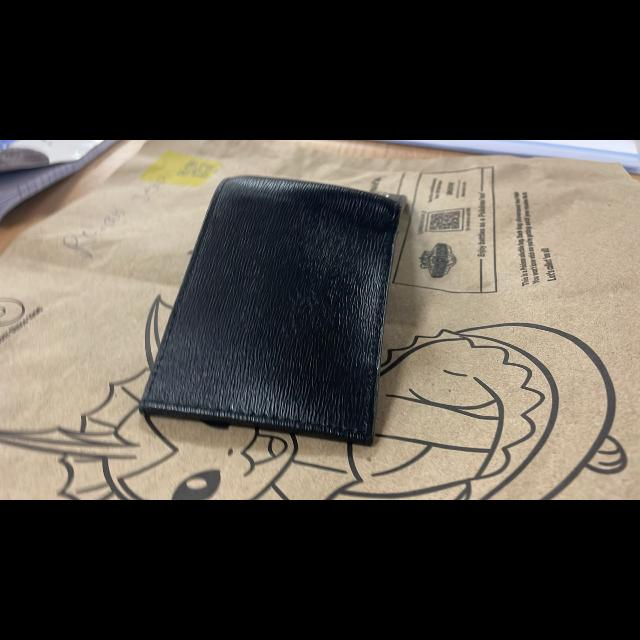wallet: (132, 156, 454, 462)
